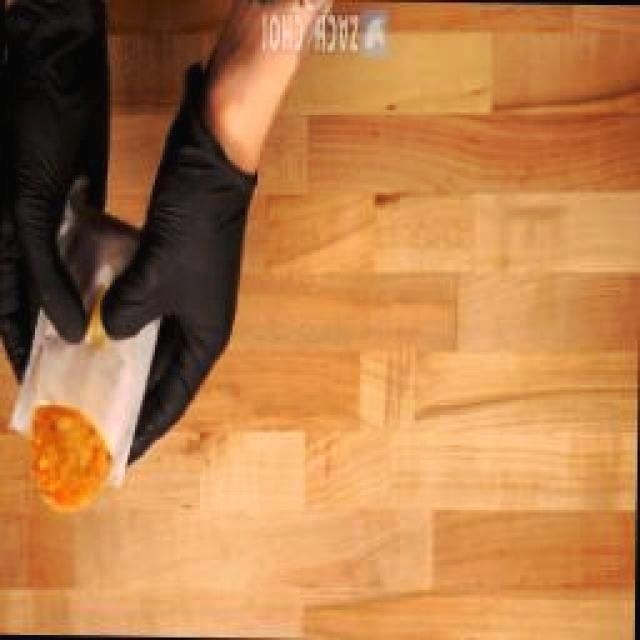Hashbrown: (31, 405, 112, 512)
